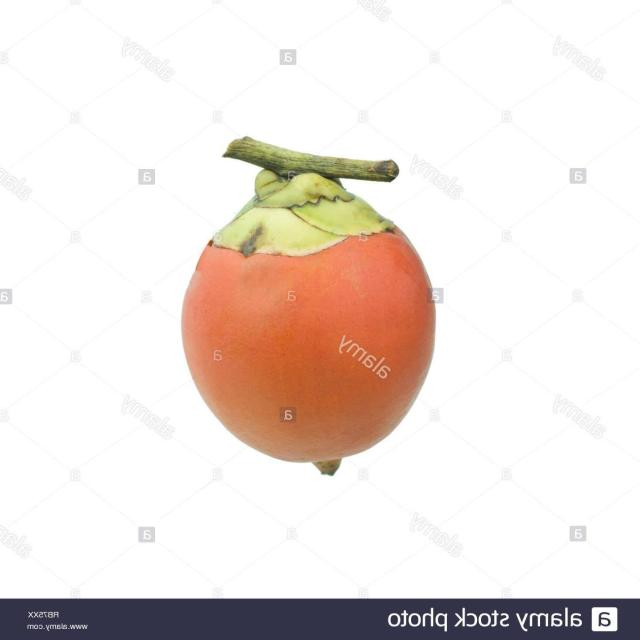good: (181, 138, 437, 476)
